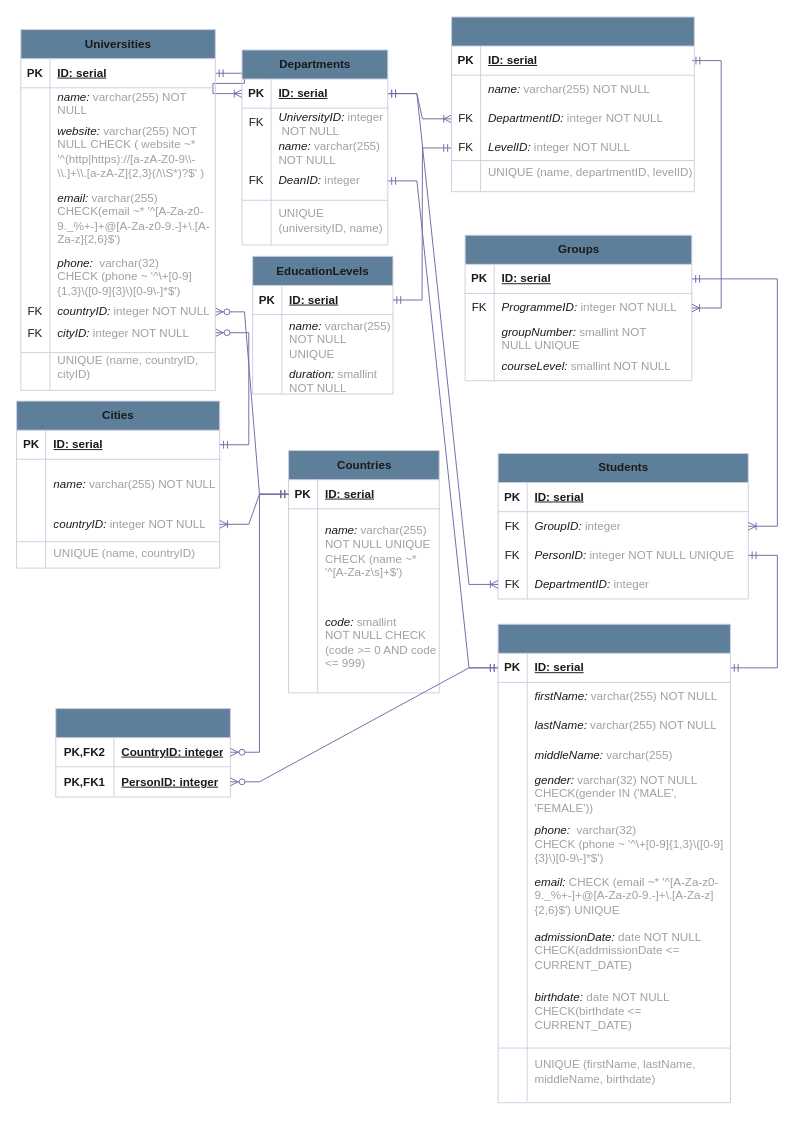
Some shapes in this 804 by 1148 pixel diagram are drawn without their labels. Each missing label, with the box of its shape:
Citizenships: (55, 708, 230, 797)
EducationalProgrammes: (451, 16, 694, 192)
People: (497, 623, 730, 1103)
